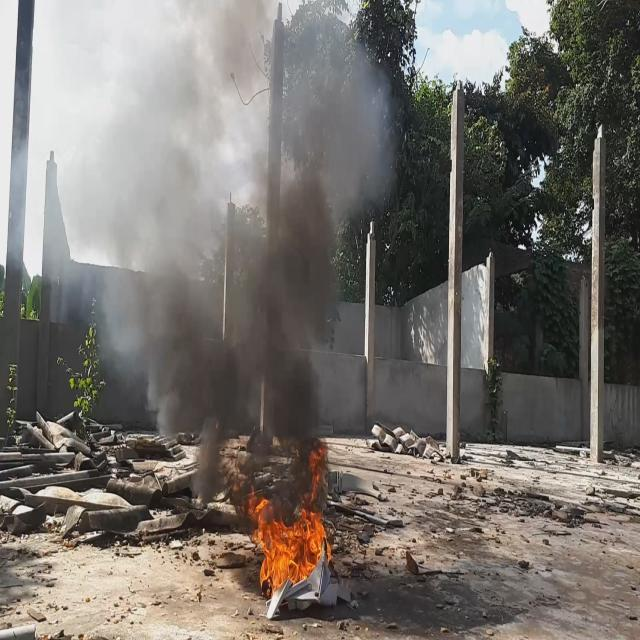Fire: (238, 444, 332, 592)
Smoke: (55, 0, 394, 521)
